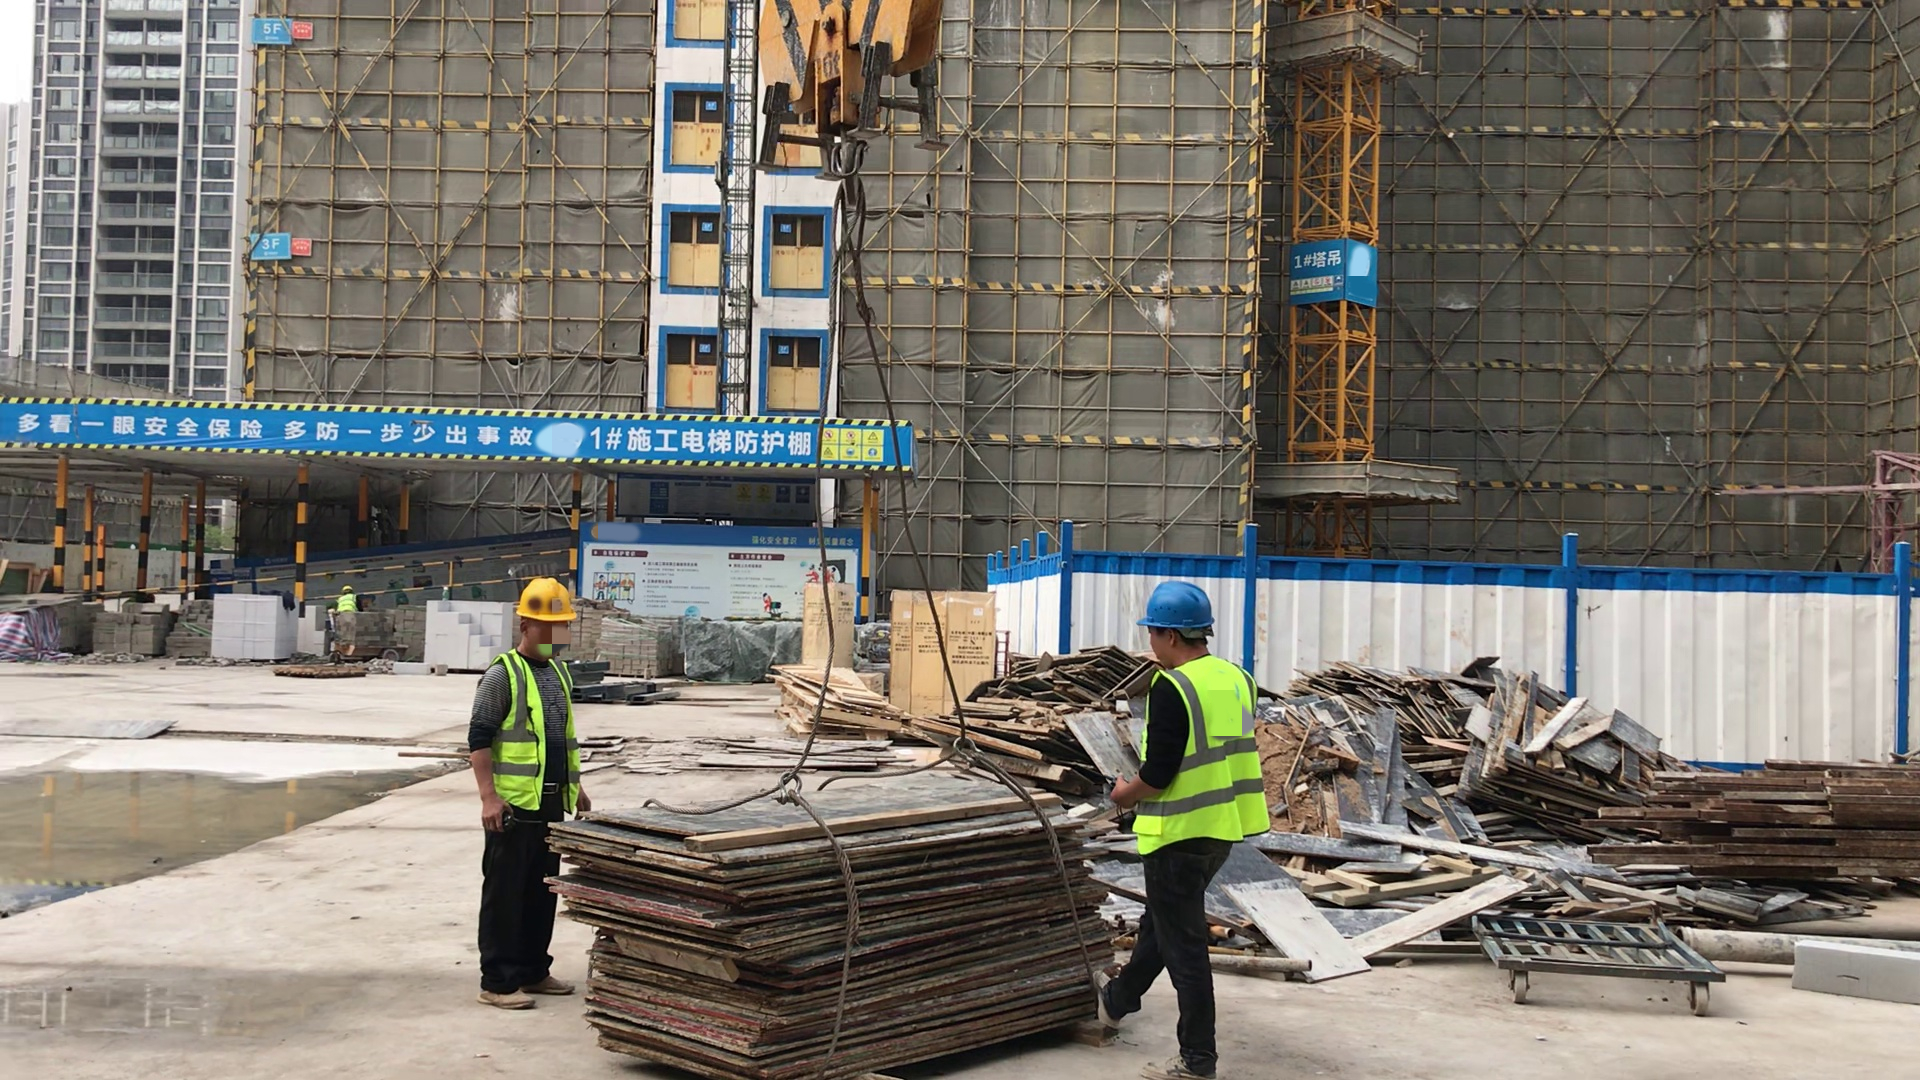board: (537, 775, 1118, 1080)
brick: (209, 591, 325, 660), (424, 601, 509, 666)
helmet: (1138, 583, 1213, 631), (515, 580, 576, 622), (340, 585, 352, 591)
hook: (758, 8, 939, 202)
person: (1111, 578, 1264, 1080), (466, 579, 588, 1020), (333, 583, 360, 611)
slogan: (11, 406, 531, 447), (816, 424, 890, 464), (1288, 277, 1342, 295)
vest: (1133, 657, 1264, 855), (487, 652, 580, 814), (336, 593, 356, 611)
